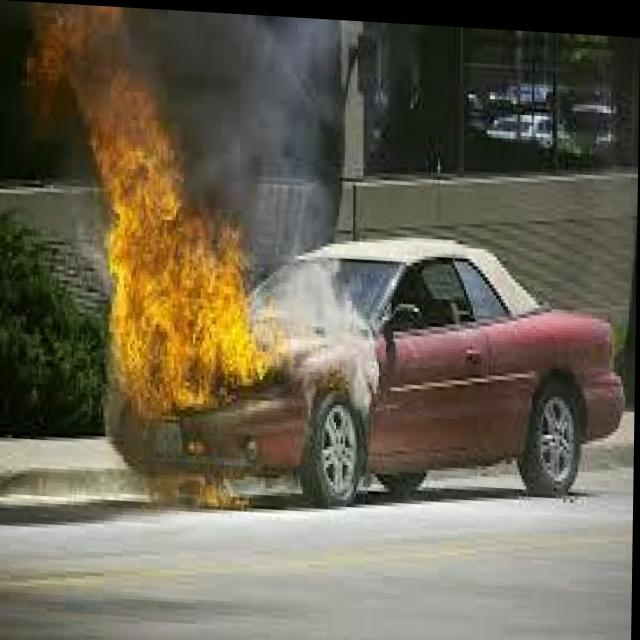fire: (19, 5, 316, 441)
